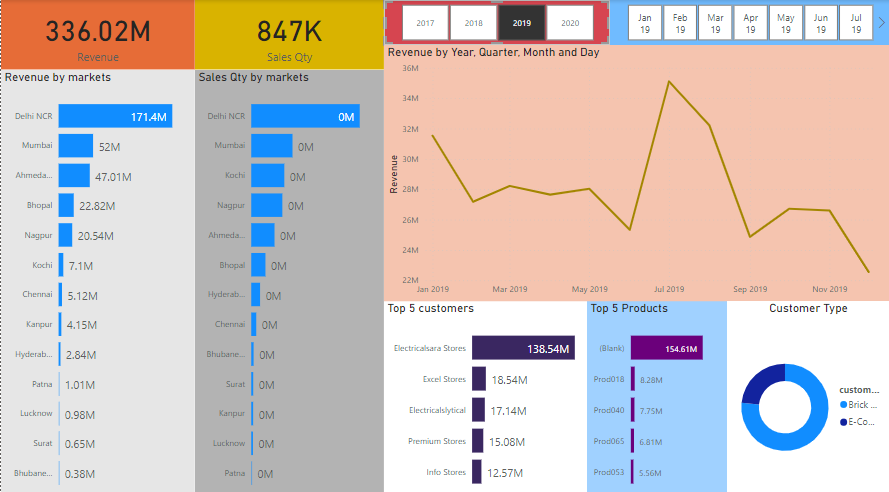

The dashboard page shown, as its layout file describes it:
{"tool":"powerbi","page":{"name":"Sales_insight","canvas":[1280,720],"ordinal":0},"visuals":[{"type":"card","fields":{"Values":["BaseMeasures.Revenue"]},"box":[0,0,279.3,100.4],"z":0},{"type":"card","fields":{"Values":["BaseMeasures.Sales Qty"]},"box":[279.3,0,272,100.4],"z":1000},{"type":"barChart","title":"Revenue by markets","fields":{"Y":["BaseMeasures.Revenue"],"Category":["sales markets.markets_name"]},"box":[0,100.4,279.3,619.6],"z":2000},{"type":"barChart","title":"Sales Qty by markets","fields":{"Y":["BaseMeasures.Sales Qty"],"Category":["sales markets.markets_name"]},"box":[279.3,100.4,272,619.6],"z":3000},{"type":"slicer","fields":{"Values":["sales date.year"]},"box":[551.3,0,325.8,65.5],"z":4000},{"type":"slicer","fields":{"Values":["sales date.cy_date"]},"box":[877.1,0,402.9,65.5],"z":5000},{"type":"barChart","title":"Top 5 customers","fields":{"Y":["BaseMeasures.Revenue"],"Category":["sales customers.custmer_name"]},"box":[551.5,433.4,292.3,286.6],"z":6000},{"type":"barChart","title":"Top 5 Products","fields":{"Y":["BaseMeasures.Revenue"],"Category":["sales products.product_code"]},"box":[843.8,433.4,201.6,286.6],"z":7000},{"type":"lineChart","fields":{"Y":["BaseMeasures.Revenue"],"Category":["sales date.cy_date.Variation.Date Hierarchy.Year","sales date.cy_date.Variation.Date Hierarchy.Quarter","sales date.cy_date.Variation.Date Hierarchy.Month","sales date.cy_date.Variation.Date Hierarchy.Day"]},"box":[551.5,64.8,728.6,368.6],"z":8000},{"type":"donutChart","title":"Customer Type","fields":{"Category":["sales customers.customer_type"],"Y":["BaseMeasures.Revenue"]},"box":[1045.4,433.4,234.7,286.6],"z":8001}]}

Visuals, with their boxes in screenshot pixels (x1, y1, x2, y2), scaled from the page's 1280x720 canvas onto the 889x492 screenshot:
card - BaseMeasures.Revenue: <bbox>0, 0, 194, 69</bbox>
card - BaseMeasures.Sales Qty: <bbox>194, 0, 383, 69</bbox>
"Revenue by markets" barChart: <bbox>0, 69, 194, 491</bbox>
"Sales Qty by markets" barChart: <bbox>194, 69, 383, 491</bbox>
slicer - sales date.year: <bbox>383, 0, 609, 45</bbox>
slicer - sales date.cy_date: <bbox>609, 0, 888, 45</bbox>
"Top 5 customers" barChart: <bbox>383, 296, 586, 491</bbox>
"Top 5 Products" barChart: <bbox>586, 296, 726, 491</bbox>
lineChart - BaseMeasures.Revenue x sales date.cy_date.Variation.Date Hierarchy.Year: <bbox>383, 44, 888, 296</bbox>
"Customer Type" donutChart: <bbox>726, 296, 888, 491</bbox>
